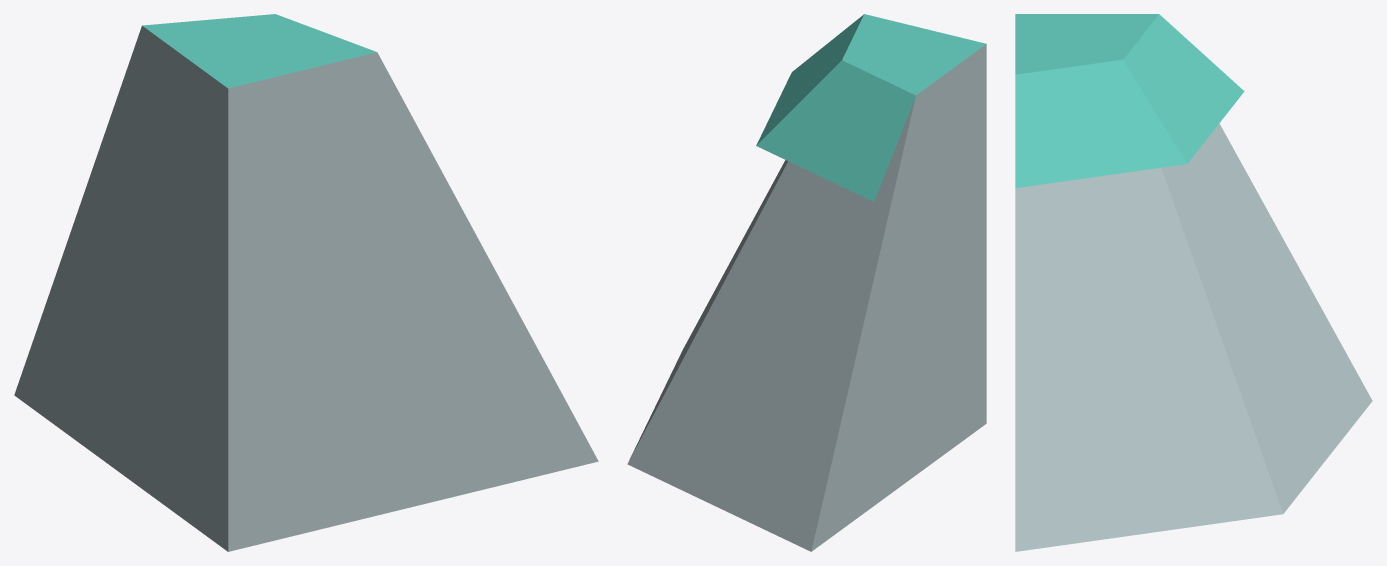
The model's file is cliff_halfCorner_stone.glb.
3 renders of one model, left to right at view 1: azimuth 30°, elevation 25°; view 2: azimuth 150°, elevation 25°; view 3: azimuth 270°, elevation 25°, orthographic. The views are drawn at different scales.
Parts seen in each view (by area): view 1: cliff_halfCorner_stone; view 2: cliff_halfCorner_stone; view 3: cliff_halfCorner_stone.
Boxes of the visible parts, x1,y1,x2,y2 form: cliff_halfCorner_stone: [14, 14, 598, 551]; cliff_halfCorner_stone: [627, 14, 986, 551]; cliff_halfCorner_stone: [1015, 14, 1372, 551].
Bounding box in the file's own units: 0.4185 × 0.5 × 0.4185.
